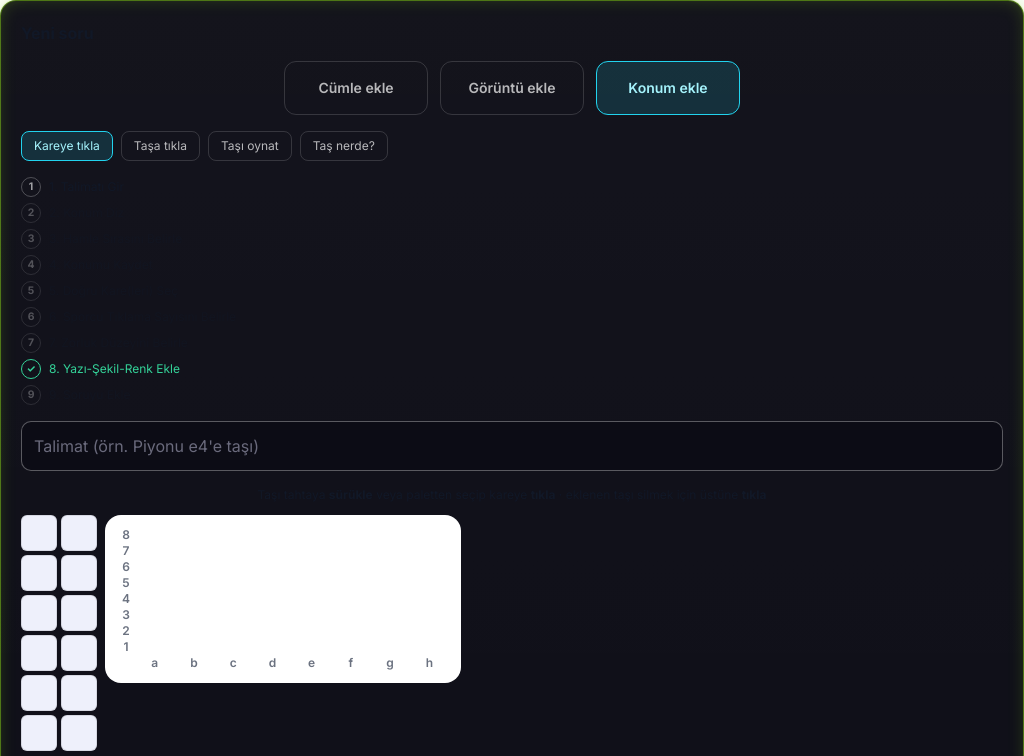
Test case: ExerciseForm — bölüm bağımsızlığı › Cümle taslağı Görüntü'ye gidip DÖNÜNCE geri gelir
The width and height of the screenshot is (1024, 756).
Step 1. Click the button "Cümle ekle" → (356, 88), box [284,61,428,115]
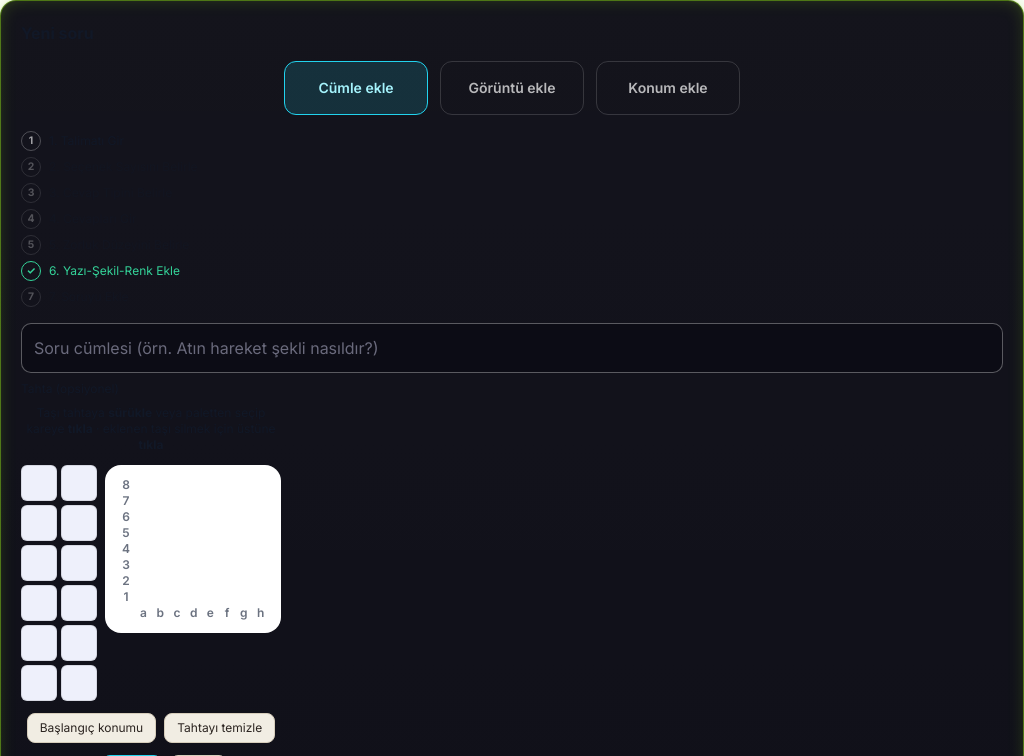
Step 2. Type "Atın hareketi nasıldır?" into the field with placeholder "Soru cümlesi (örn. Atın hareket şekli nasıldır?)" → (512, 348), box [21,323,1003,373]
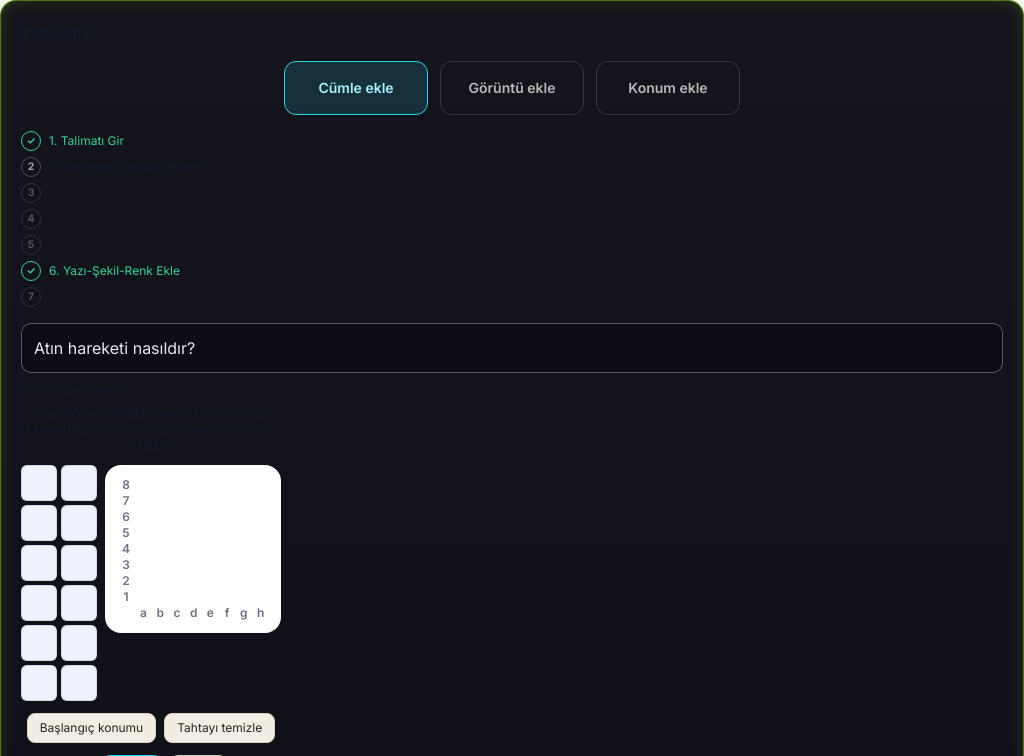
Step 3. Click the button "Görüntü ekle" → (512, 88), box [440,61,584,115]
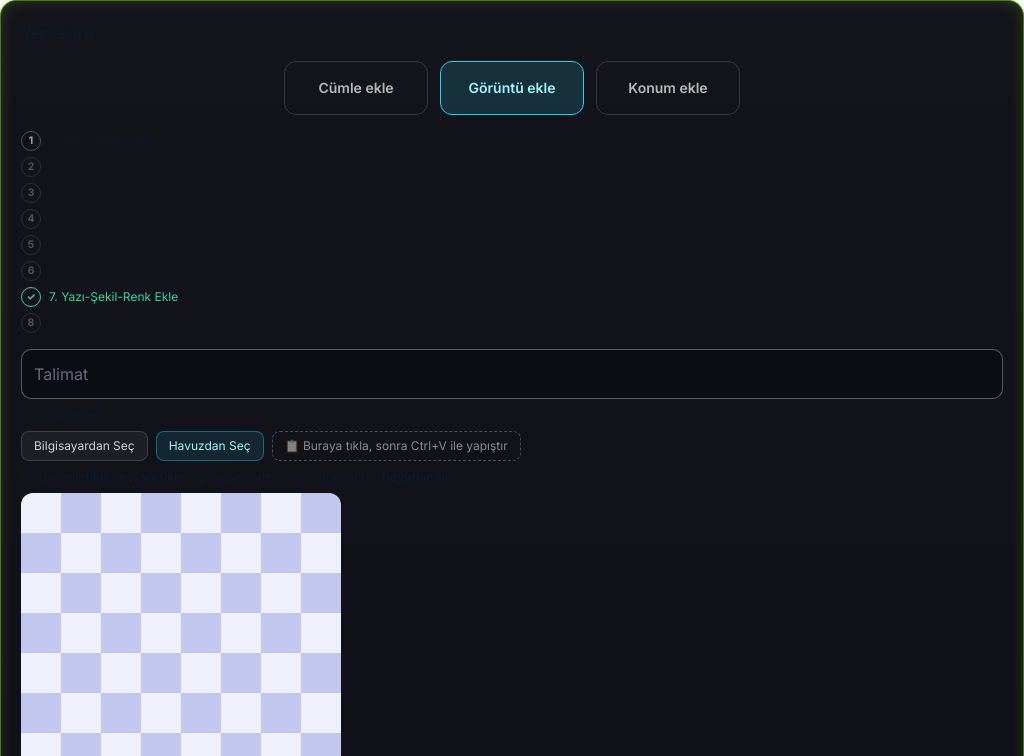
Step 4. Click the button "Cümle ekle" → (356, 88), box [284,61,428,115]
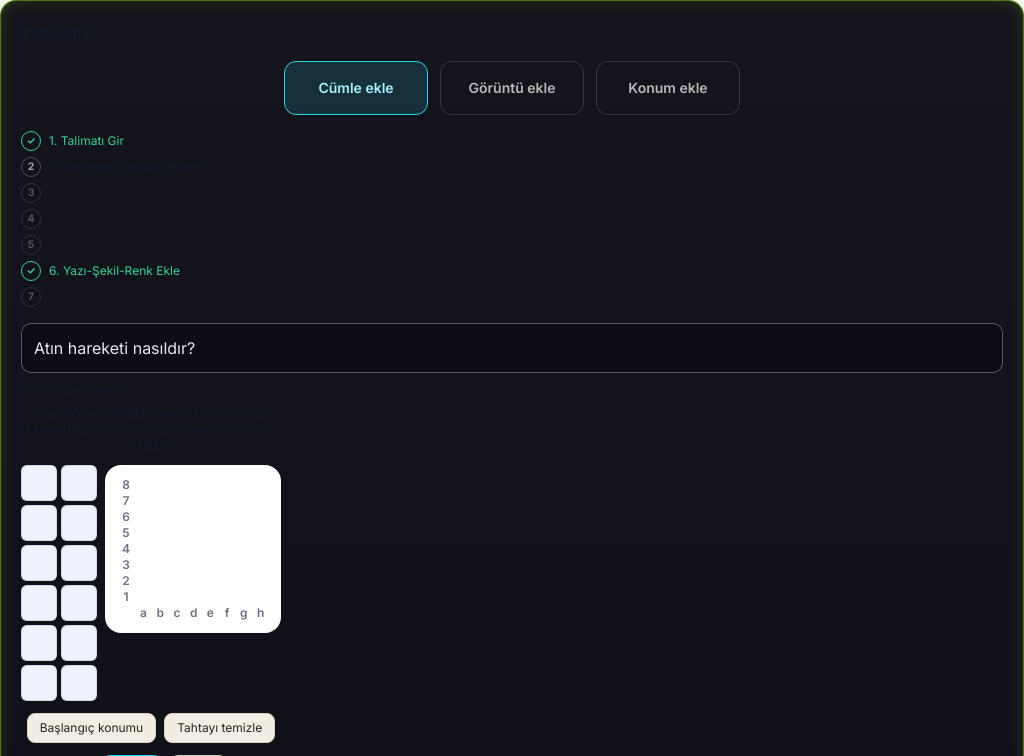
Now the field with placeholder "Soru cümlesi (örn. Atın hareket şekli nasıldır?)" holds "Atın hareketi nasıldır?", box [21,323,1003,373]
